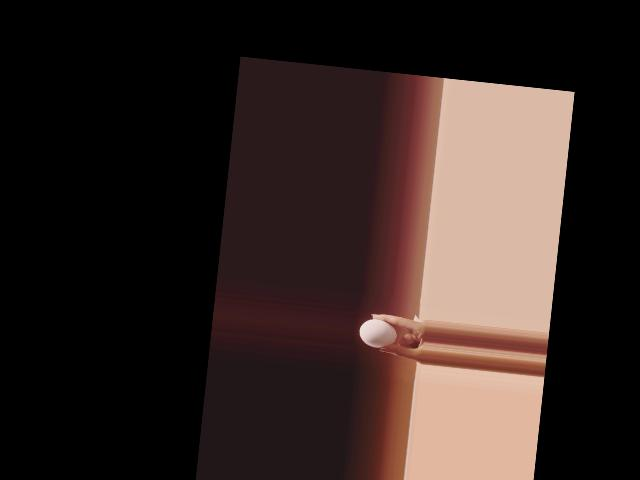egg: (358, 318, 399, 350)
